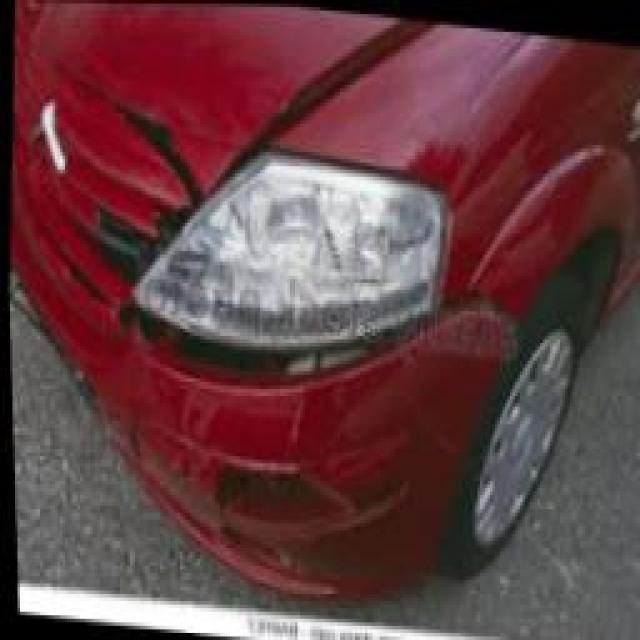Bonnet: (27, 0, 419, 191)
Bumper: (57, 262, 509, 608)
